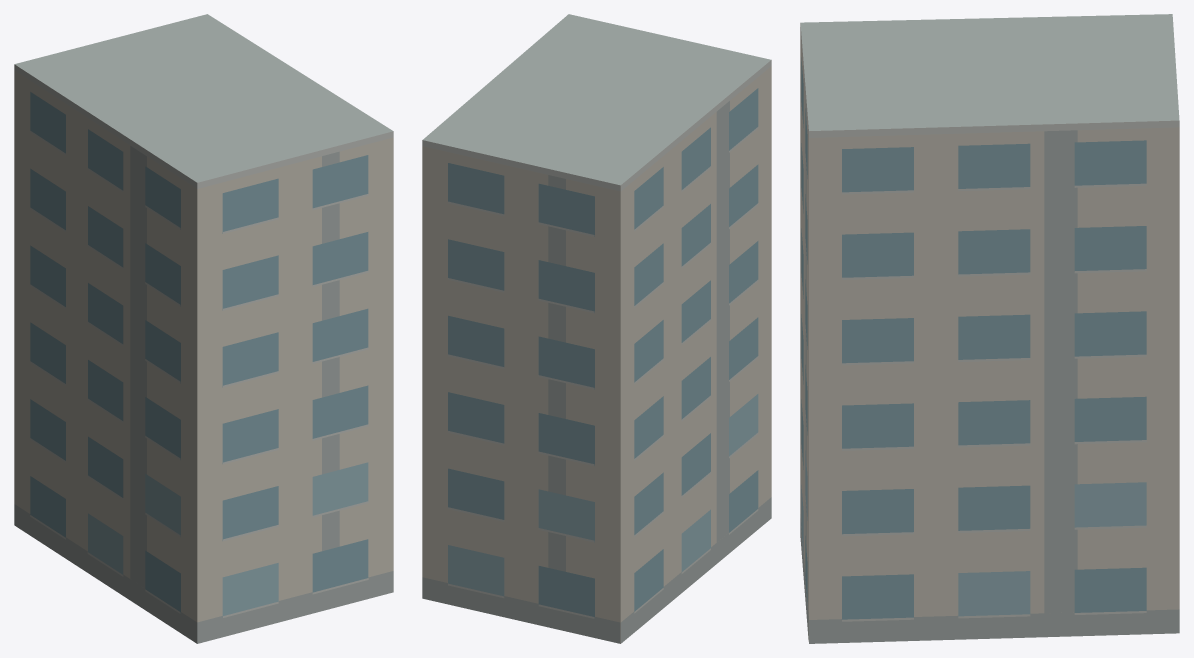
The model's file is survey-upis-32808934.glb.
The picture shows the model from 3 angles, left to right: view 1: azimuth 30°, elevation 25°; view 2: azimuth 150°, elevation 25°; view 3: azimuth 270°, elevation 25°; orthographic projection. The views are drawn at different scales.
Visible parts, largest first — view 1: survey-upis-32808934.tmp; view 2: survey-upis-32808934.tmp; view 3: survey-upis-32808934.tmp.
Part boxes in pixels (box(x1,y1,x2,y2)): survey-upis-32808934.tmp: box(14, 14, 393, 643); survey-upis-32808934.tmp: box(422, 14, 771, 643); survey-upis-32808934.tmp: box(800, 14, 1179, 643).
Size of the model in its own units: 8.97 by 18.3 by 12.27.
